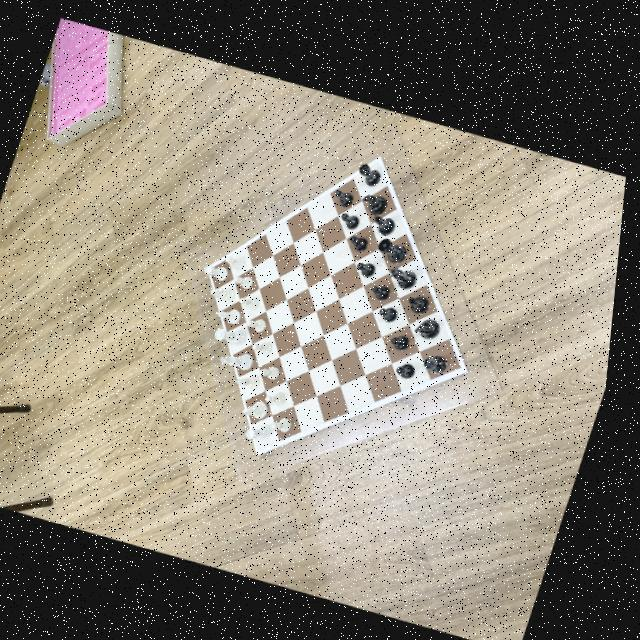chessboard-corner: (259, 445, 274, 457), (469, 360, 480, 372), (208, 259, 219, 269), (378, 148, 388, 157)
